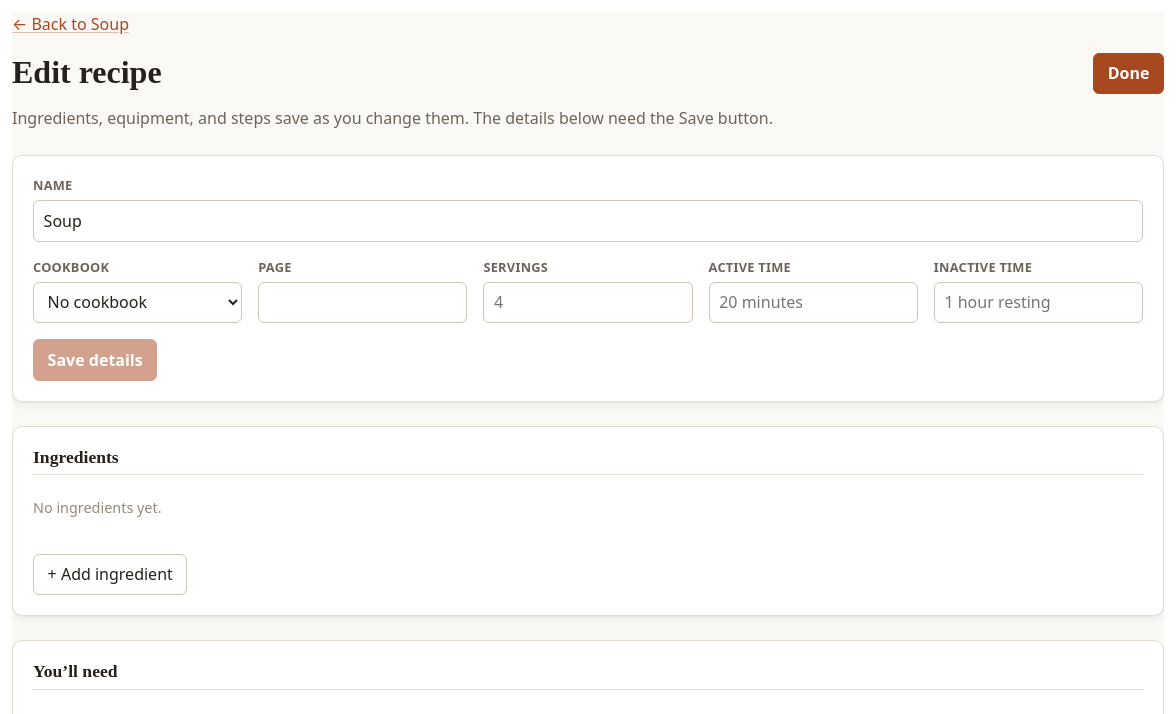
Test: ingredient editor when a save fails › shows the error and keeps a new ingredient row
Click the button "+ Add ingredient".
click(110, 575)  # box [33,554,187,595]
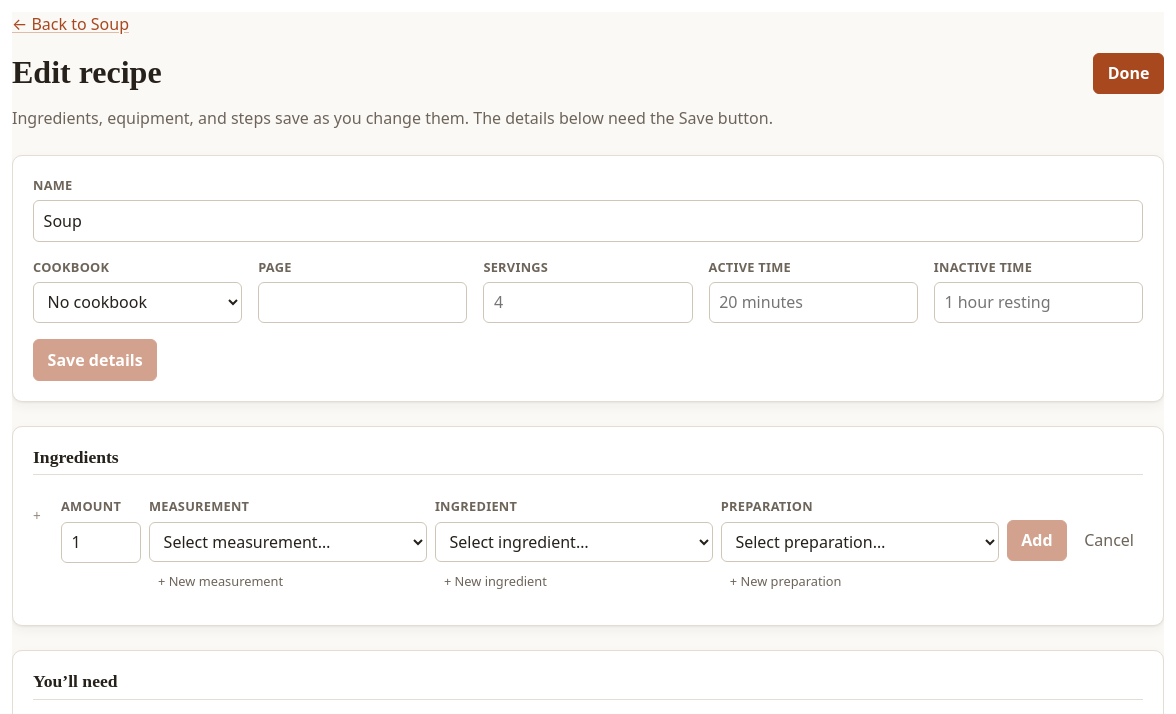
Expected: the dropdown labelled "Ingredient" is enabled
Select "leek" in the dropdown labelled "Ingredient" at (574, 542), box [435,522,713,562]
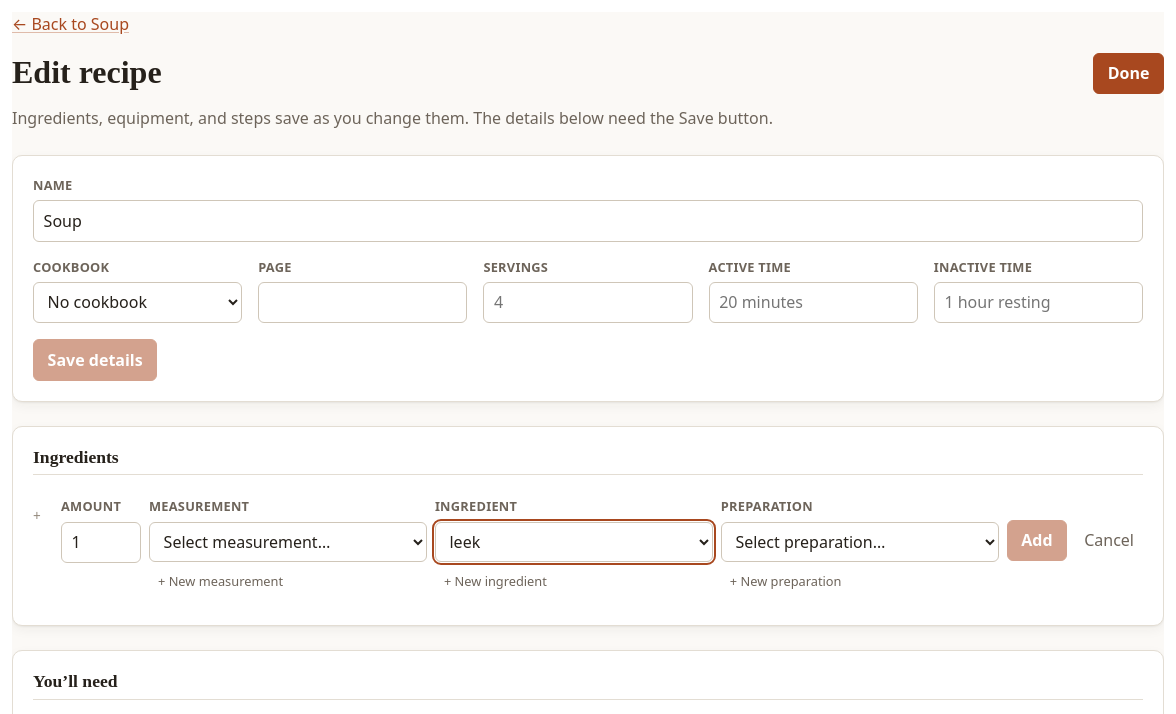
Expected: the dropdown labelled "Measurement" is enabled
Select "leek" in the dropdown labelled "Measurement" at (288, 542), box [149,522,427,562]
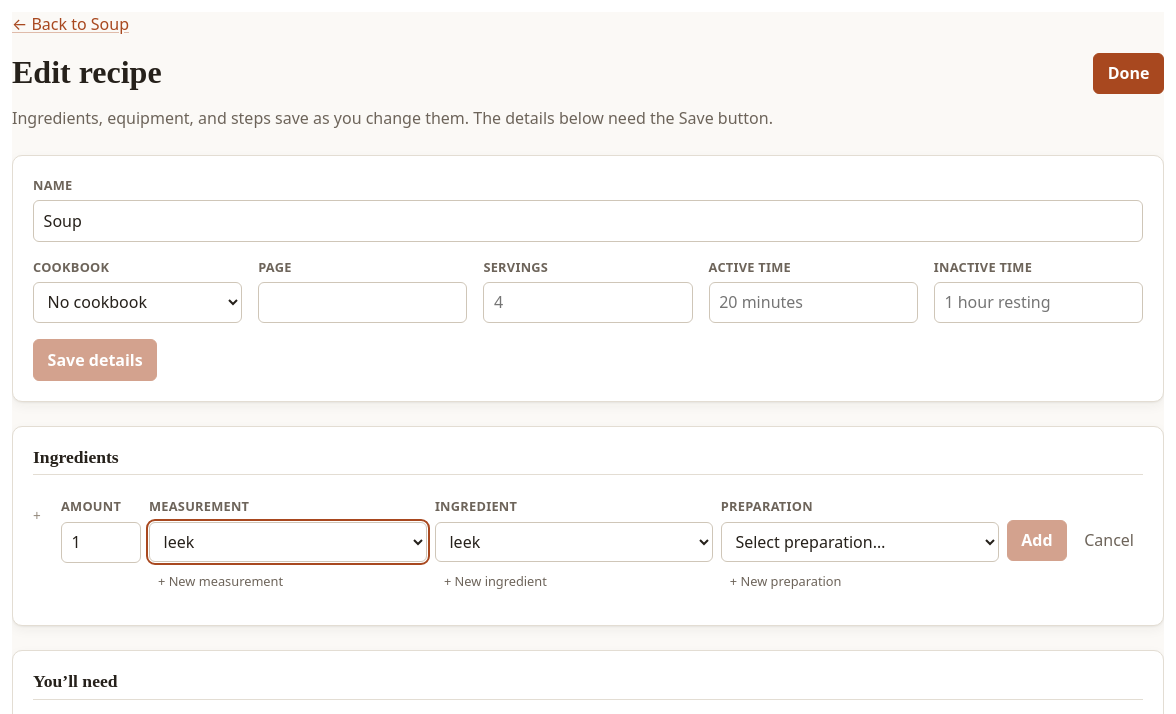
Expected: the dropdown labelled "Preparation" is enabled
Select "leek" in the dropdown labelled "Preparation" at (860, 542), box [721,522,999,562]
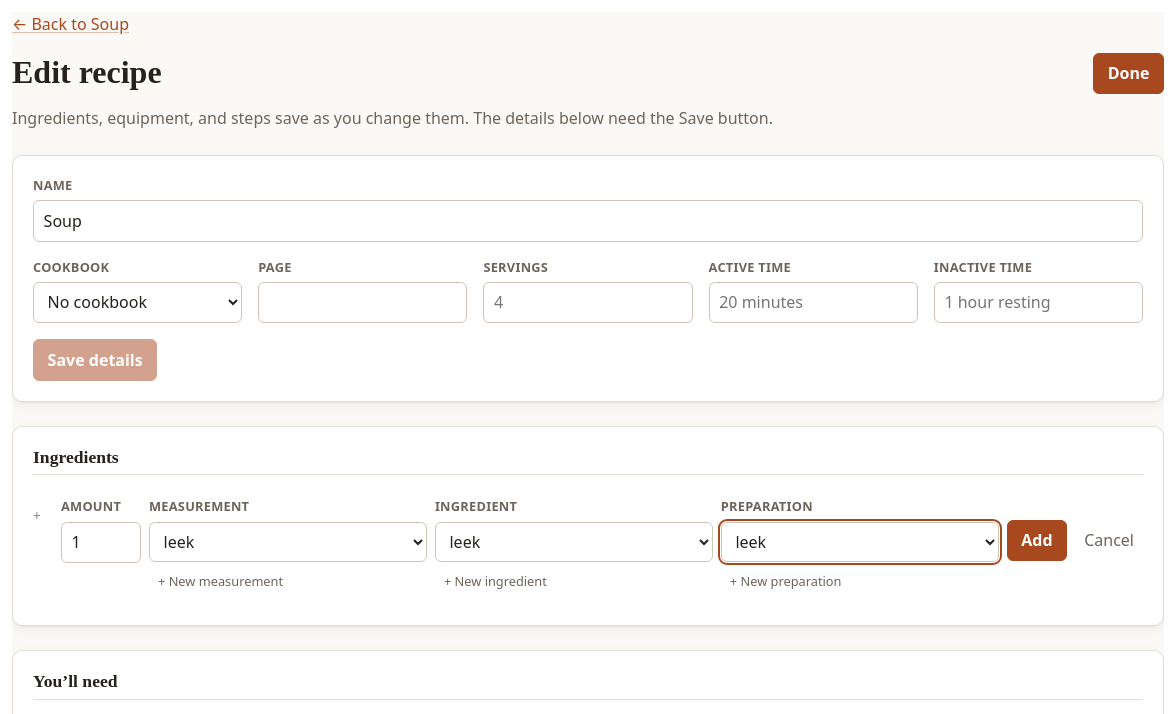
Click the button "Add".
click(1037, 540)  # box [1007,520,1067,561]
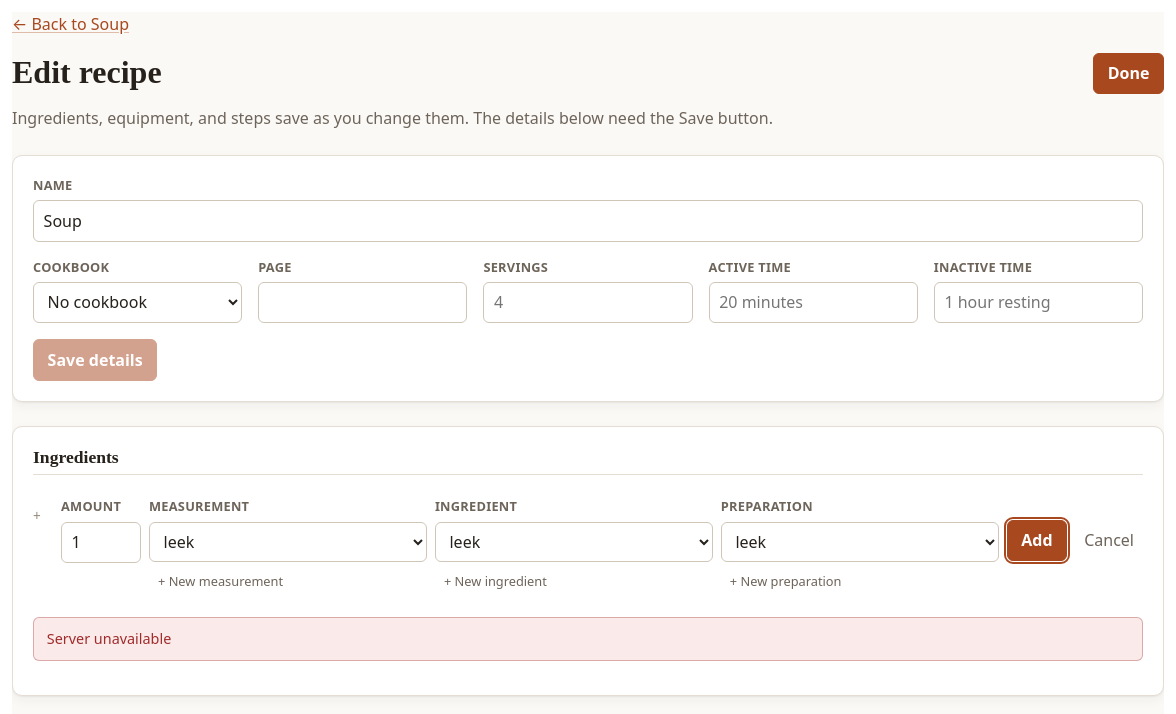
Expected: the button "Add" is enabled, [1007,520,1067,561]
Expected: the text "Server unavailable" is shown, [33,617,1143,660]
